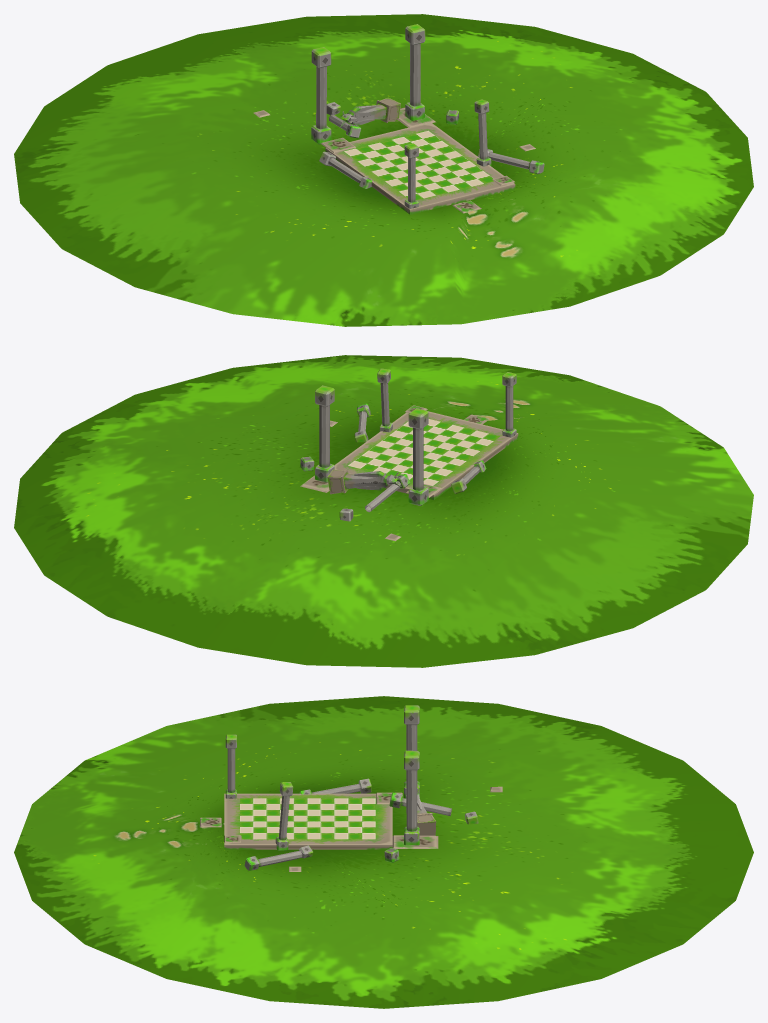
Rendered from map1.fbx.
3 renders of one model, top to bottom at view 1: azimuth 30°, elevation 25°; view 2: azimuth 150°, elevation 25°; view 3: azimuth 270°, elevation 25°, orthographic.
Parts seen in each view (by area): view 1: map, polySurface78, Plane, map.001, cot2; view 2: map, polySurface78, Plane, map.001, cot2; view 3: map, Plane, polySurface78, map.001.
Boxes of the visible parts, x1,y1,x2,y2 form: map: (14, 14, 753, 326); polySurface78: (311, 24, 544, 208); Plane: (344, 130, 493, 200); map.001: (325, 122, 515, 214); cot2: (340, 97, 400, 126); map: (14, 355, 753, 667); polySurface78: (315, 368, 516, 521); Plane: (348, 419, 499, 485); map.001: (334, 411, 518, 499); cot2: (327, 469, 401, 494); map: (14, 696, 753, 1008); Plane: (240, 798, 375, 839); polySurface78: (225, 705, 478, 870); map.001: (224, 793, 392, 849).
Bounding box in the file's own units: 284 × 51.18 × 284.
Materials: 5 (5 with a texture image).
